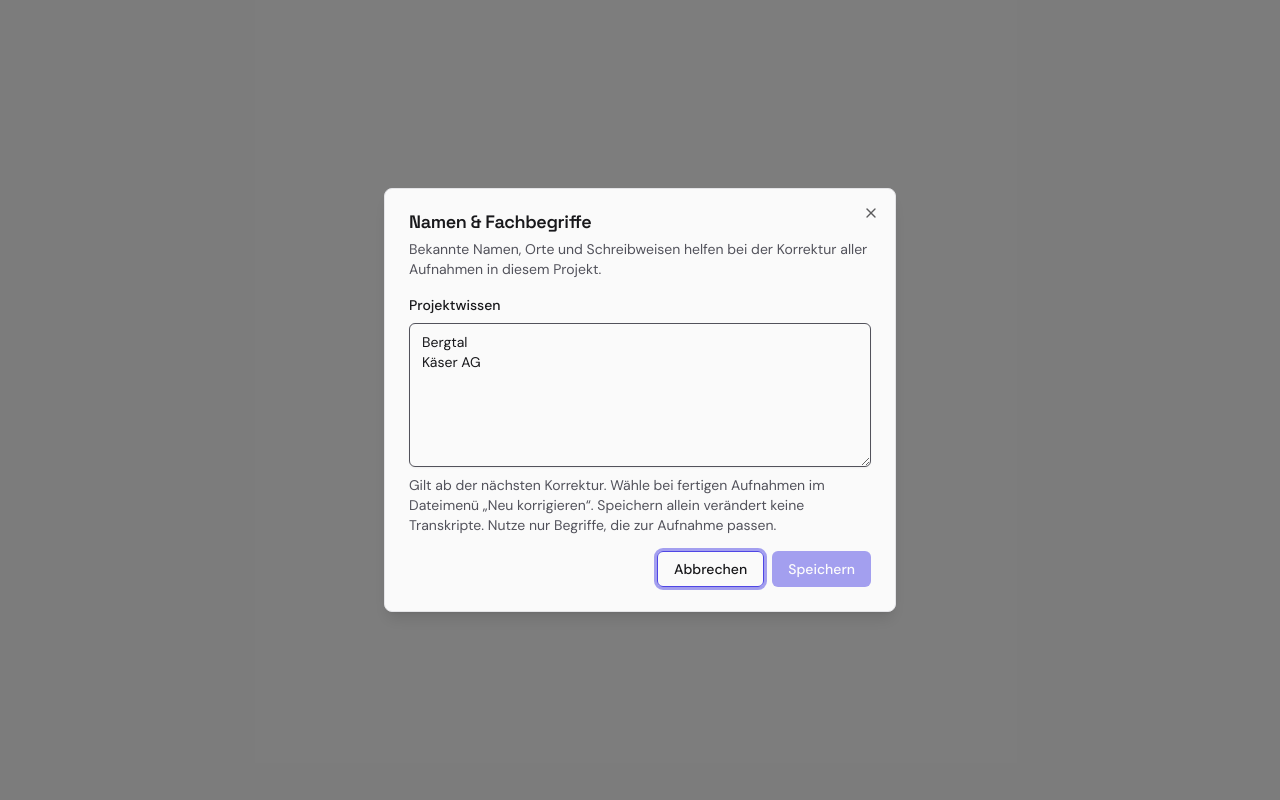
Test: Projektwissen › behält die Eingabe bei einem Speicherkonflikt
This screenshot has width=1280, height=800.
Replace the text in the text box labelled "Projektwissen" with "Meine Begriffe" at (640, 395), box [409,323,871,467]
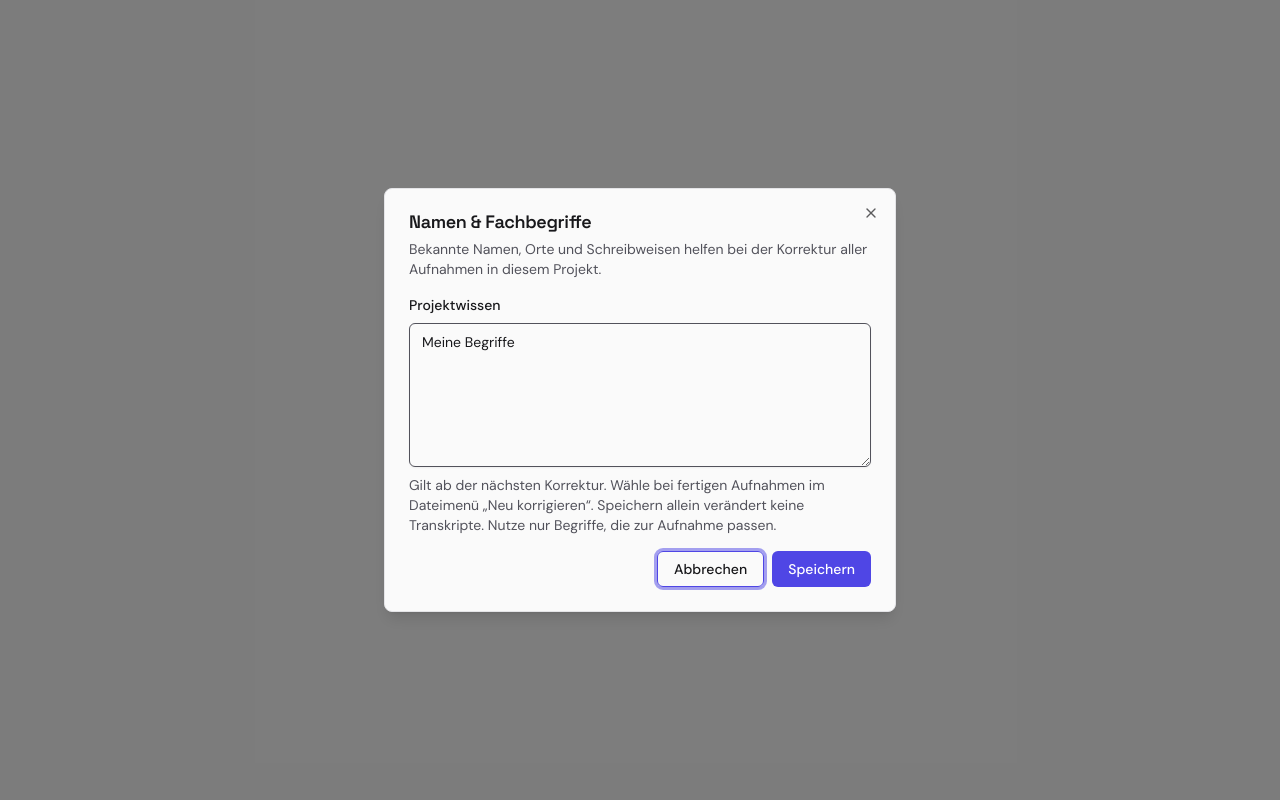
Click the button "Speichern" at (822, 569), box [772,551,871,587]
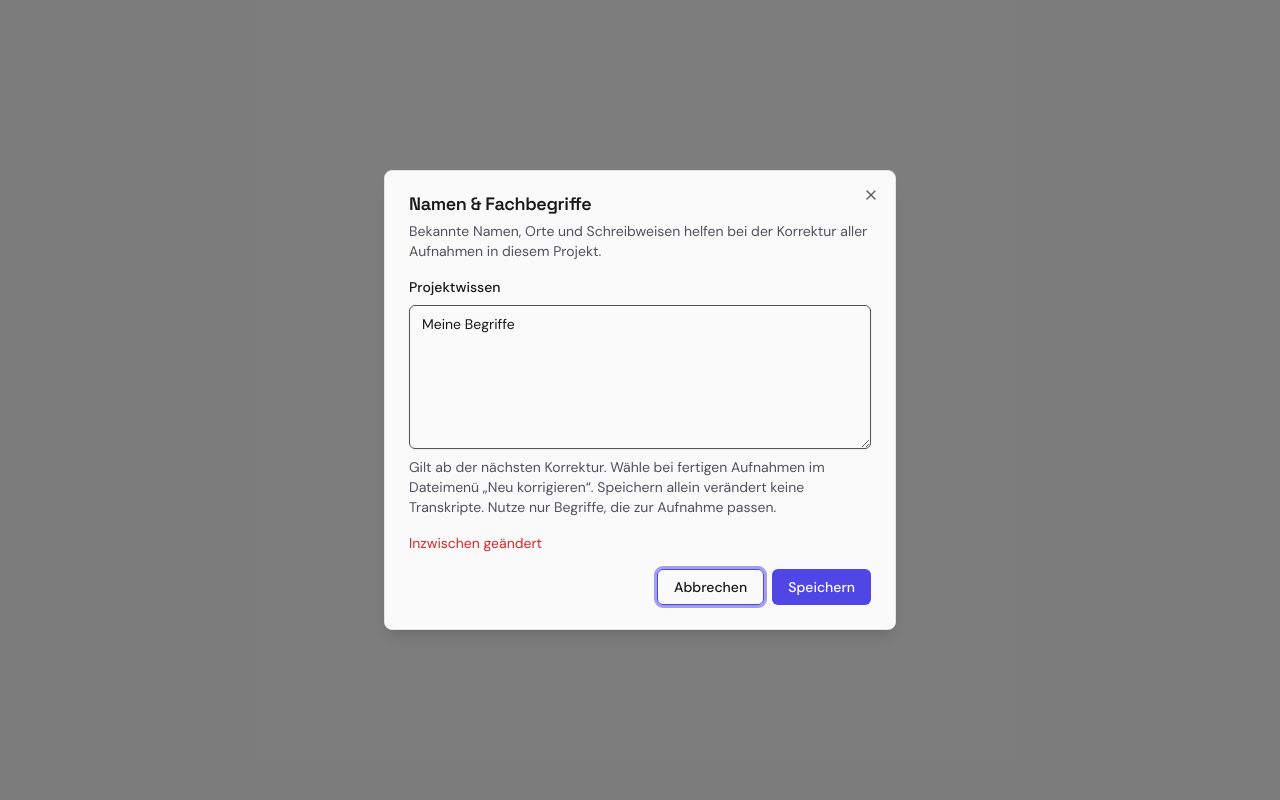
Now the message reads "Inzwischen geändert", box [409,534,542,552]
